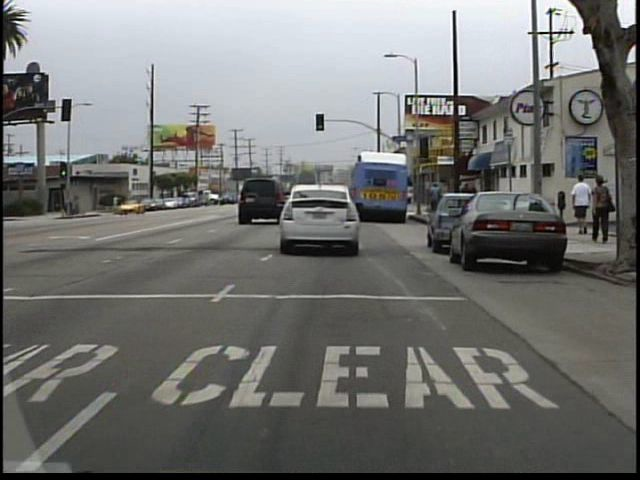person: (587, 173, 611, 246), (568, 172, 592, 238), (426, 180, 445, 221), (111, 194, 122, 214)
